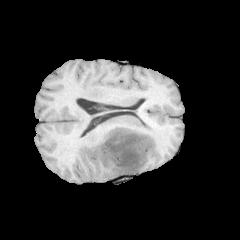glioma: (76, 114, 171, 179)
